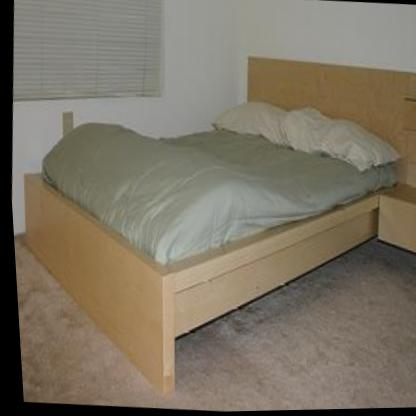Bed: (25, 51, 404, 390)
